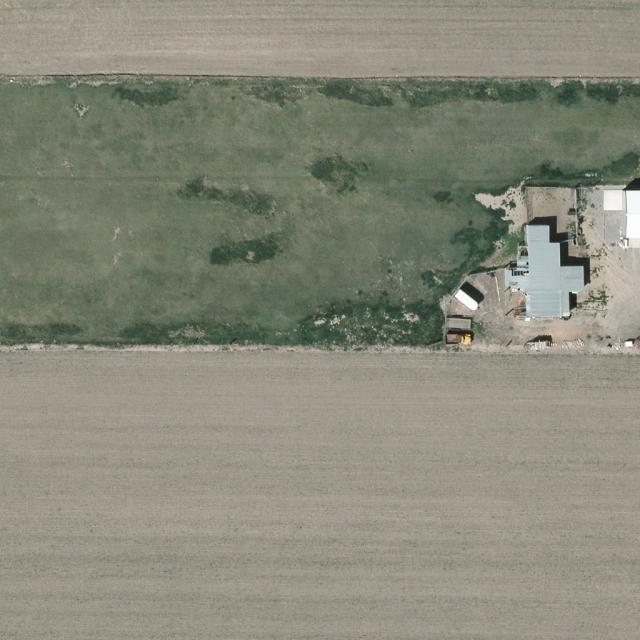vehicle: (444, 334, 472, 346)
